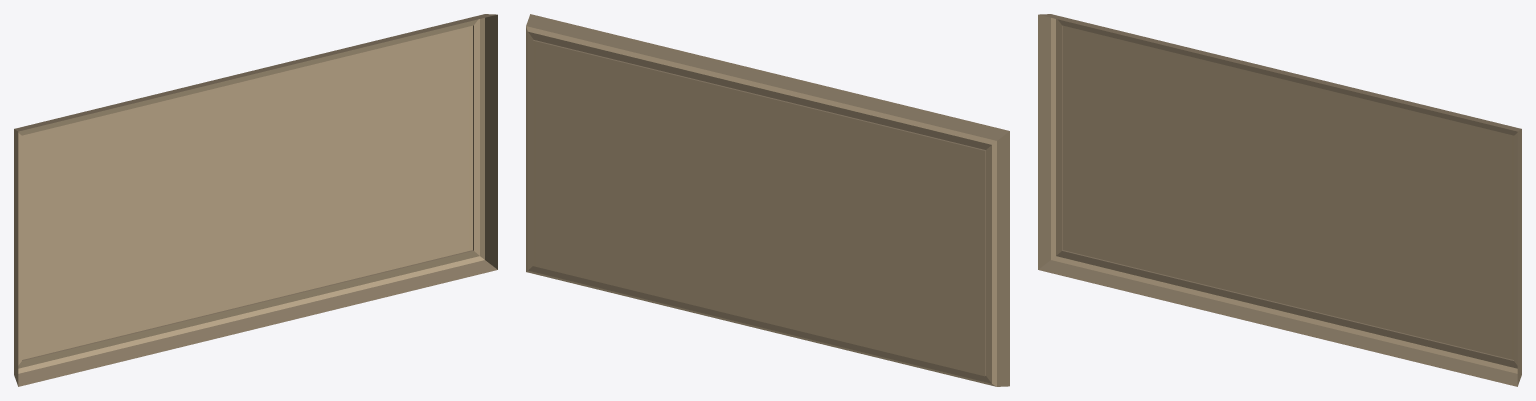
The model's file is Zhandoutai.FBX.
3 renders of one model, left to right at view 1: azimuth 30°, elevation 25°; view 2: azimuth 150°, elevation 25°; view 3: azimuth 330°, elevation 25°, orthographic.
Parts seen in each view (by area): view 1: Object035; view 2: Object035; view 3: Object035.
Part boxes in pixels (box(x1,y1,x2,y2)): Object035: box(14, 14, 497, 386); Object035: box(526, 14, 1009, 386); Object035: box(1038, 14, 1521, 386).
Size of the model in its own units: 50.2 by 25.54 by 2.05.
Materials: 1 (1 with a texture image).
